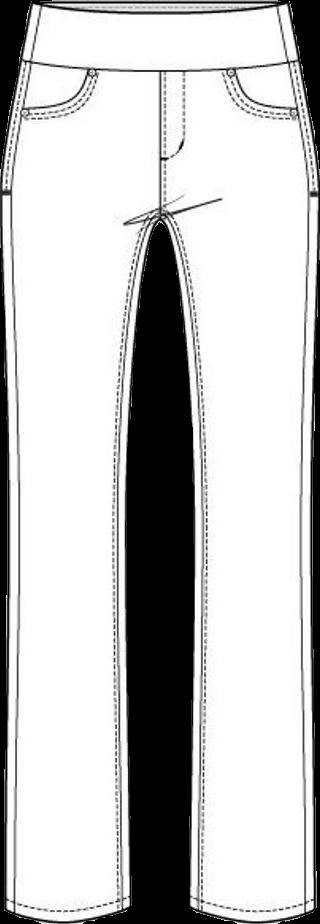Hemline: (0, 896, 134, 922), (188, 897, 319, 923)
Pantleg: (155, 0, 318, 920), (1, 0, 154, 920)
Waistline: (15, 53, 302, 78), (29, 0, 287, 16)
